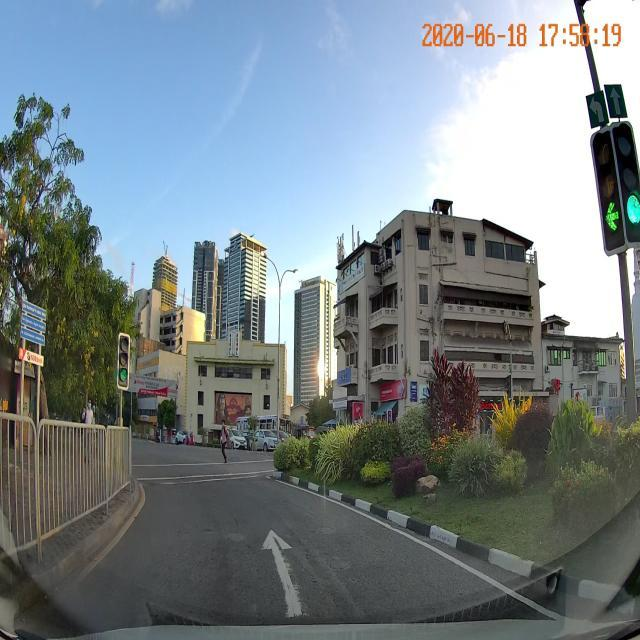forward: (22, 525, 545, 622)
